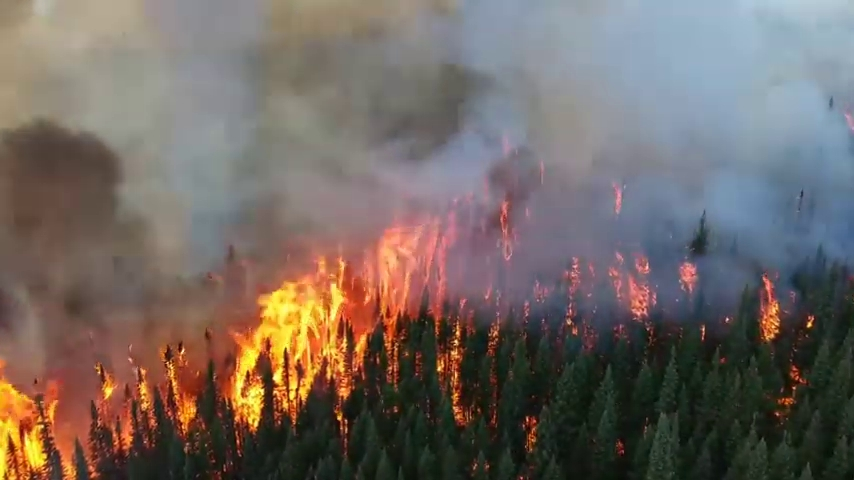forest_fire: (225, 212, 461, 426), (124, 345, 196, 430), (0, 361, 57, 466), (437, 327, 470, 423), (608, 257, 655, 318), (94, 364, 118, 421), (760, 274, 779, 340), (498, 199, 513, 261)
